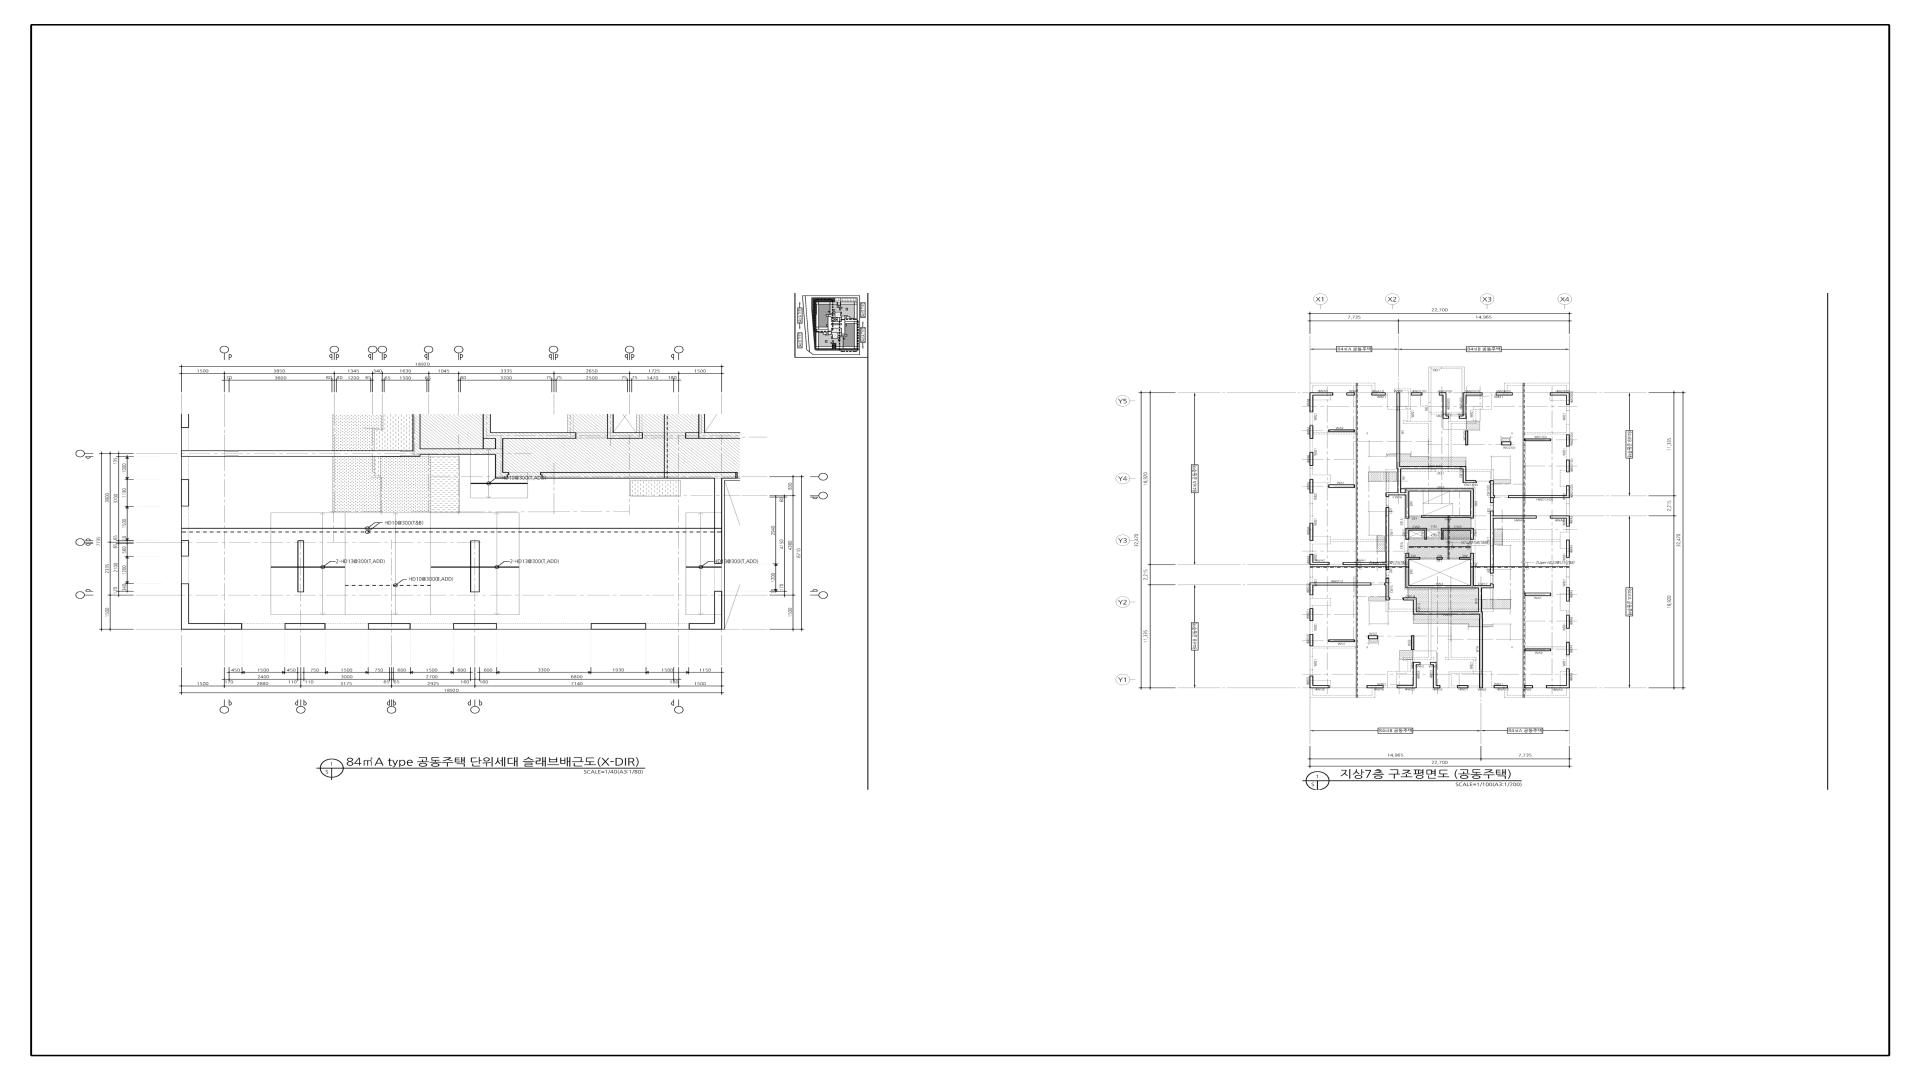wall: (181, 414, 421, 457), (483, 414, 576, 439), (540, 472, 738, 479), (1402, 597, 1483, 614), (689, 591, 722, 630), (607, 414, 643, 439), (1508, 485, 1570, 498), (1310, 583, 1371, 595), (714, 479, 722, 564), (1459, 392, 1483, 419), (1397, 662, 1421, 688), (470, 541, 480, 592), (420, 449, 503, 455), (1546, 668, 1570, 688), (1310, 392, 1333, 412), (181, 623, 242, 630), (1441, 528, 1474, 540), (685, 432, 740, 439), (591, 623, 646, 630), (297, 541, 304, 592), (1409, 584, 1494, 588), (495, 455, 509, 479), (181, 583, 189, 623), (453, 623, 497, 630), (368, 623, 411, 630), (1479, 614, 1483, 688), (285, 623, 325, 630), (1405, 488, 1474, 492), (1439, 392, 1449, 419), (1405, 528, 1427, 540), (1430, 662, 1440, 688), (1550, 392, 1570, 405), (1309, 676, 1330, 688), (1490, 511, 1494, 574), (1550, 515, 1570, 527), (1309, 554, 1330, 565), (1397, 392, 1400, 466), (181, 479, 189, 506), (1397, 466, 1466, 469), (1463, 469, 1477, 483), (1386, 507, 1389, 570), (1494, 515, 1537, 519), (1421, 515, 1470, 518), (1405, 553, 1409, 588), (1384, 578, 1390, 601), (1342, 562, 1386, 565), (181, 540, 189, 556), (1470, 553, 1474, 585), (698, 414, 705, 432), (1386, 492, 1409, 497), (1470, 492, 1474, 519), (1489, 480, 1495, 498), (1405, 495, 1409, 519), (1478, 588, 1482, 612), (1328, 429, 1355, 432), (1328, 485, 1355, 488), (495, 439, 503, 449), (1525, 593, 1551, 596), (1566, 540, 1570, 558), (1398, 469, 1401, 492), (1566, 587, 1570, 602), (1371, 392, 1386, 396), (1566, 615, 1570, 629), (1524, 649, 1551, 651), (1310, 523, 1313, 541), (1328, 640, 1355, 642), (1566, 642, 1570, 655), (1566, 434, 1570, 447), (1525, 439, 1551, 441), (1367, 685, 1384, 688), (1496, 392, 1513, 395), (1566, 460, 1570, 472), (1411, 635, 1414, 650), (1310, 452, 1313, 466), (1310, 479, 1313, 493), (1494, 685, 1508, 688), (1465, 431, 1468, 445), (1368, 635, 1378, 639), (1310, 426, 1313, 439), (1310, 608, 1313, 621), (1310, 634, 1313, 646), (1409, 557, 1420, 560), (1459, 557, 1470, 560), (1457, 685, 1468, 688), (1411, 393, 1422, 396), (1501, 442, 1511, 445), (1524, 685, 1533, 688), (1346, 392, 1355, 395), (1490, 498, 1494, 503), (1437, 557, 1443, 560)
